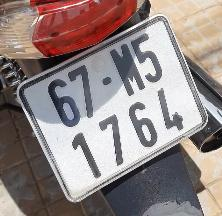1: (64, 128, 107, 185)
4: (147, 80, 191, 139)
5: (126, 30, 171, 89)
6: (41, 74, 87, 136), (121, 98, 163, 156)
7: (63, 61, 106, 124), (91, 108, 131, 171)
M: (104, 39, 151, 102)
